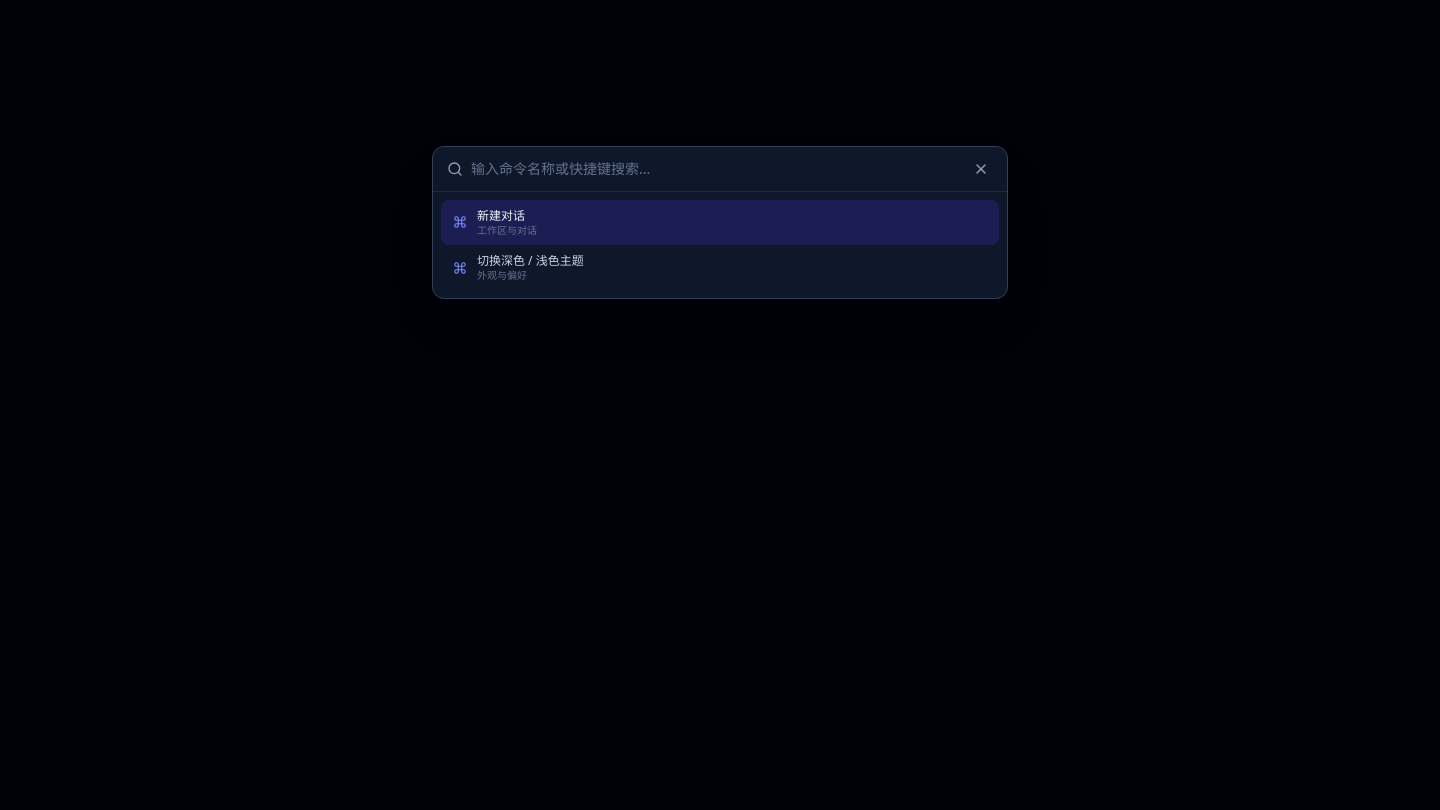
it: P5 Desktop Enhancements (Notifications, Theme, i18n, Command Palette, Updater) › filters commands and executes selected item via keyboard in CommandPaletteModal
Later steps or results of the test are not shown.
In the field with test id "command-palette-input": coordinates (716, 169) [471,159,961,179], type "theme"
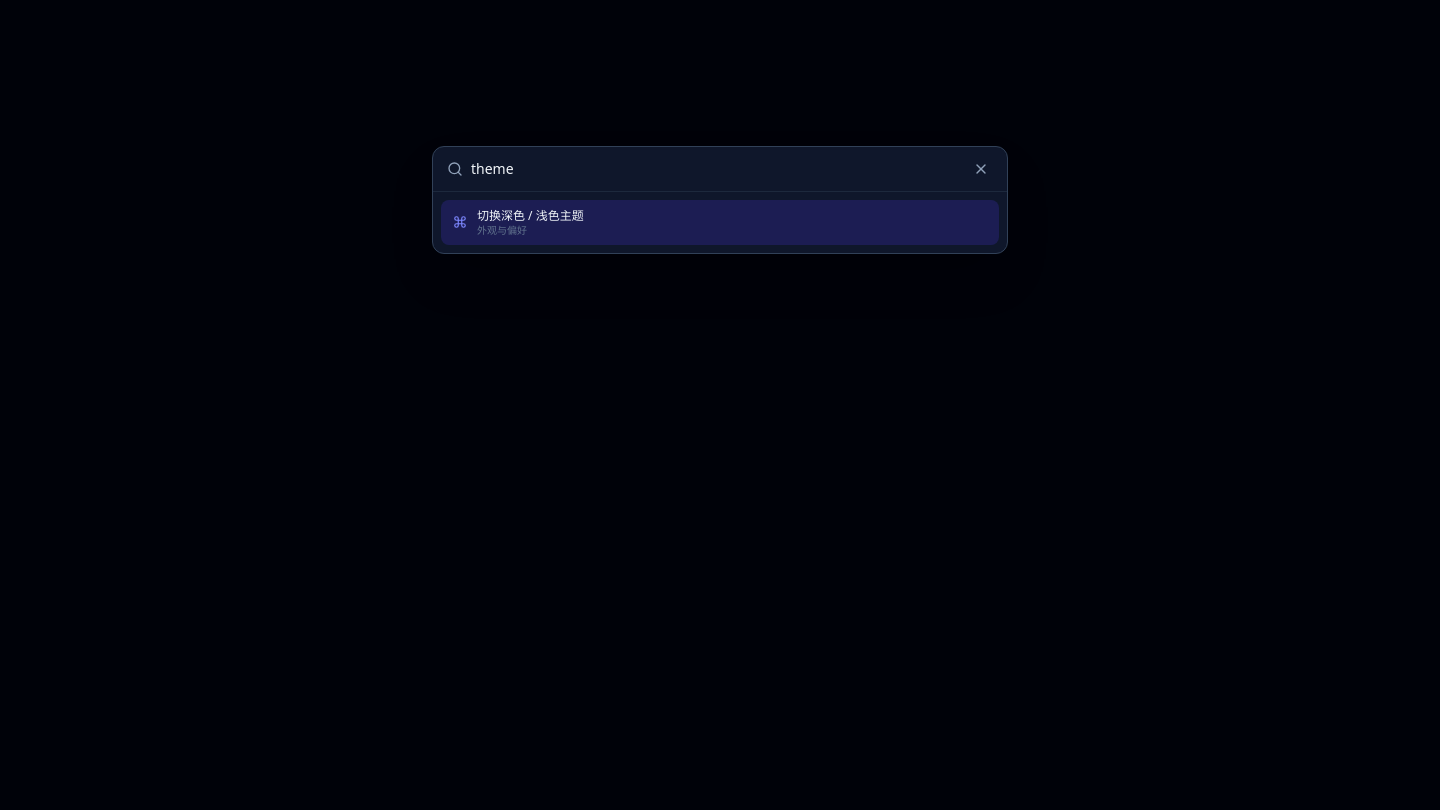
Expected: the button with test id "command-item-toggle-theme" is shown, [441,200,999,245]
Expected: the button with test id "command-item-new-conversation" is gone
